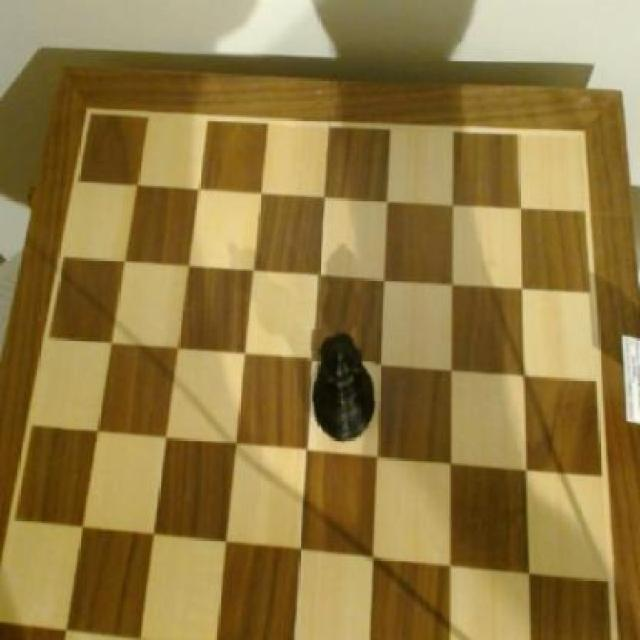black-pawn: (309, 326, 378, 449)
